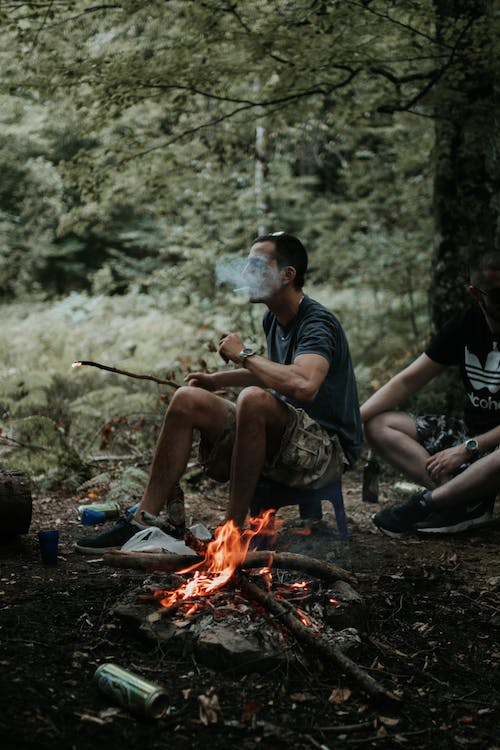cigarette: (228, 282, 252, 295)
